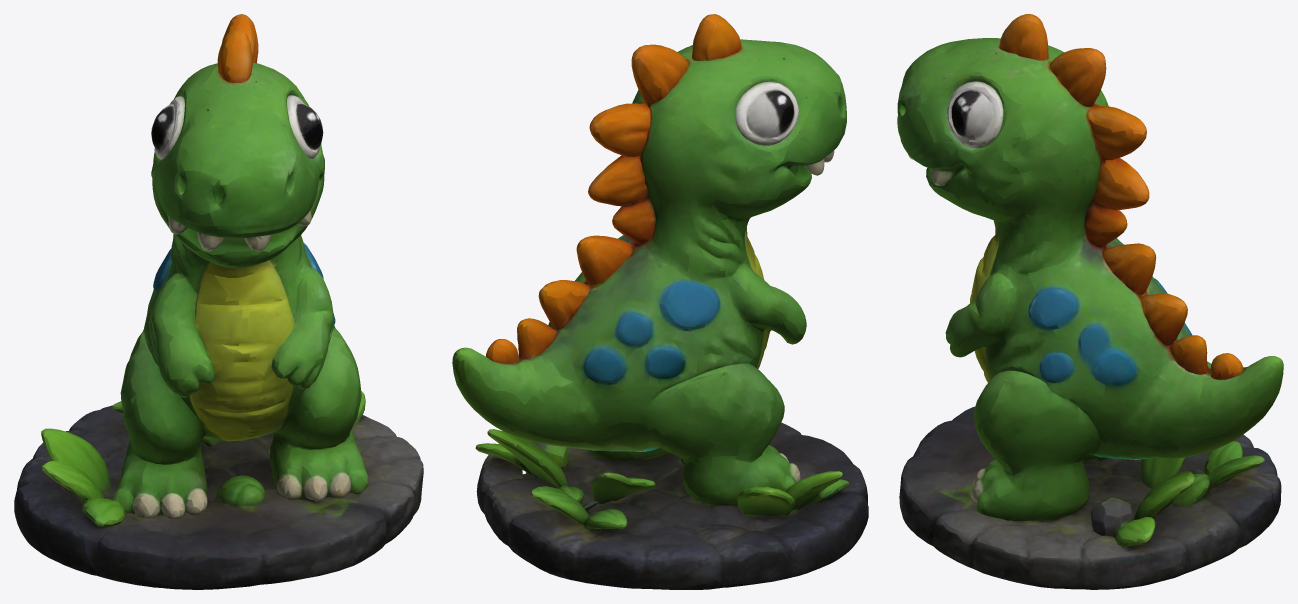
The model's file is step_04_texture_baked.glb.
The picture shows the model from 3 angles, left to right: view 1: azimuth 30°, elevation 25°; view 2: azimuth 150°, elevation 25°; view 3: azimuth 270°, elevation 25°; orthographic projection. The views are drawn at different scales.
Parts seen in each view (by area): view 1: Model; view 2: Model; view 3: Model.
Part boxes in pixels (<box>): Model: <box>14,14,423,589</box>; Model: <box>452,14,868,589</box>; Model: <box>897,14,1283,589</box>.
Bounding box in the file's own units: 1.21 × 1.6 × 1.15.
1 material, 1 textured.
